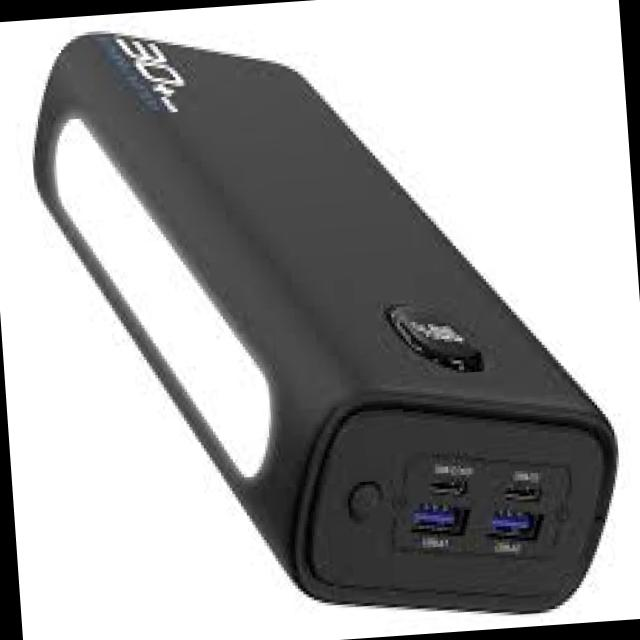power_bank: (25, 0, 630, 640)
